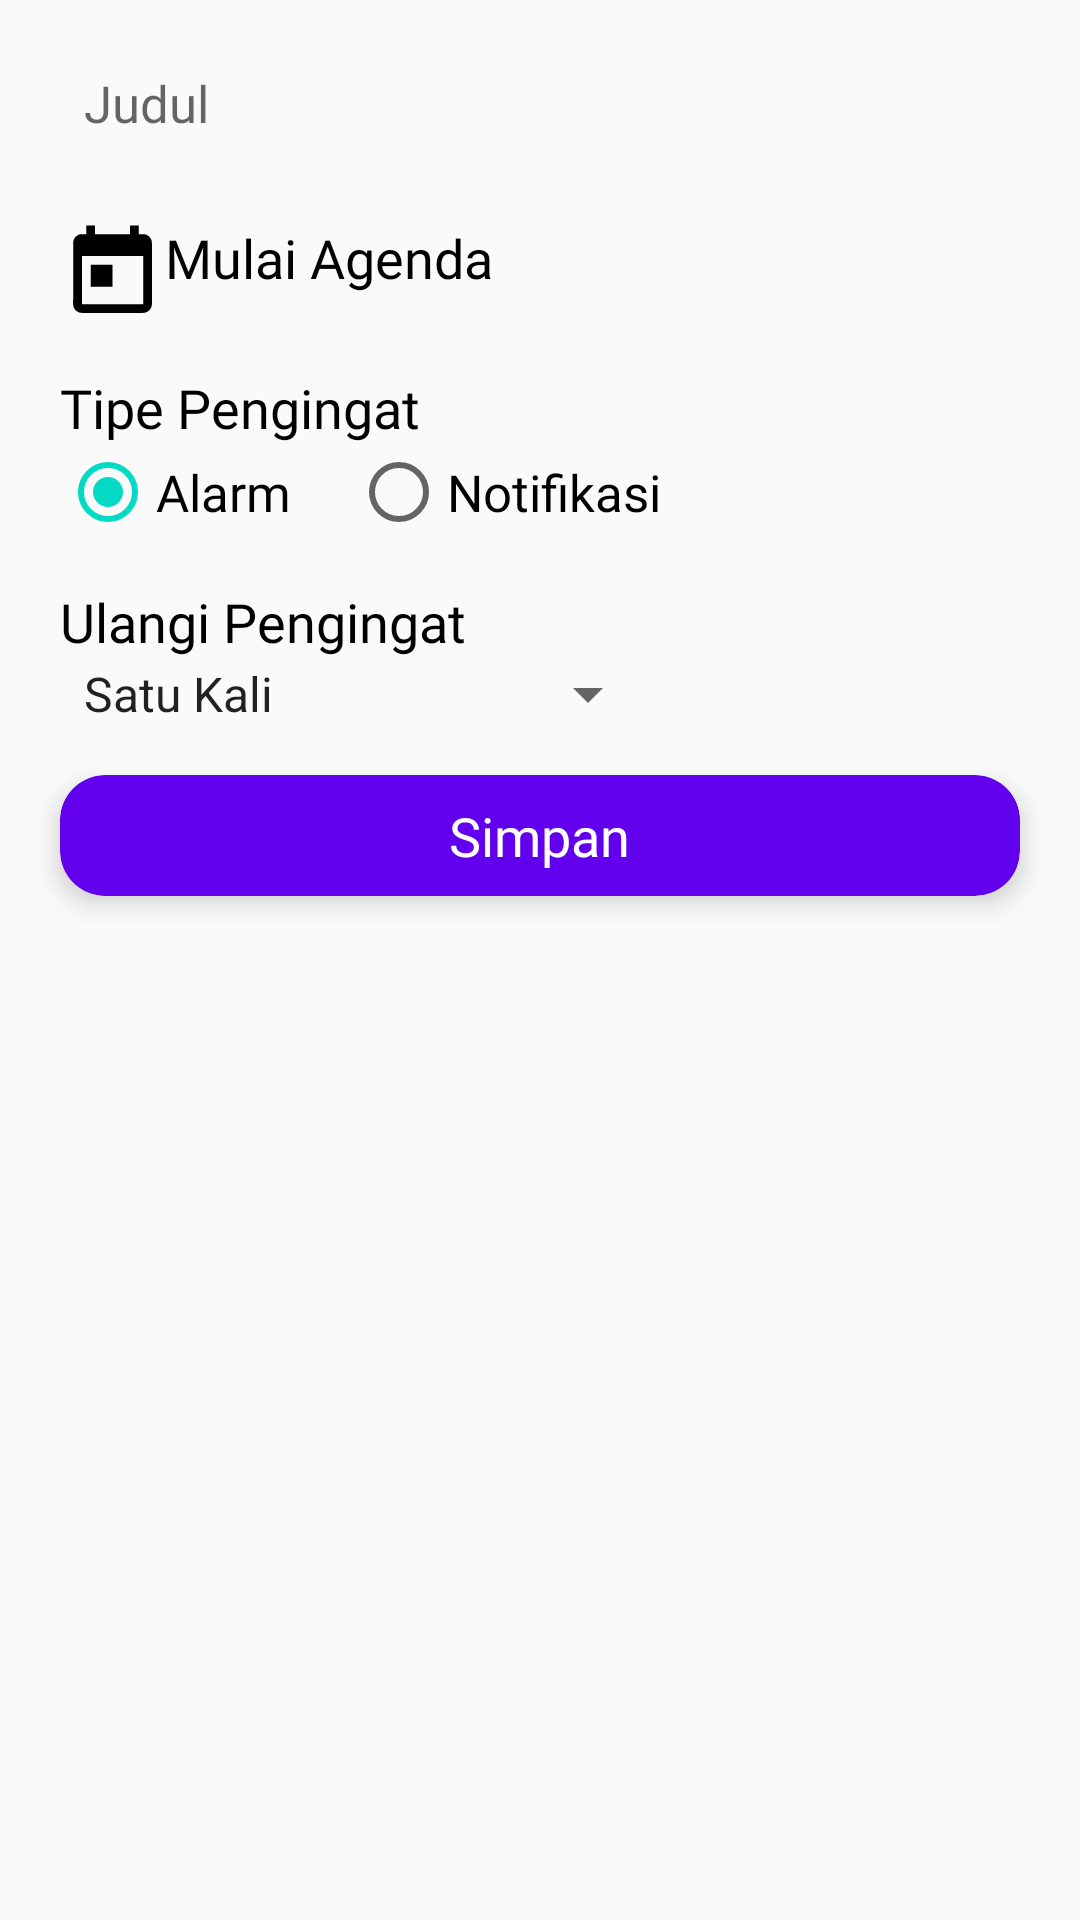

Icon bounding boxes for this 1080px×1920px phone screenshot, format region(x1, y1, x2, y2):
today: region(73, 225, 152, 313)
